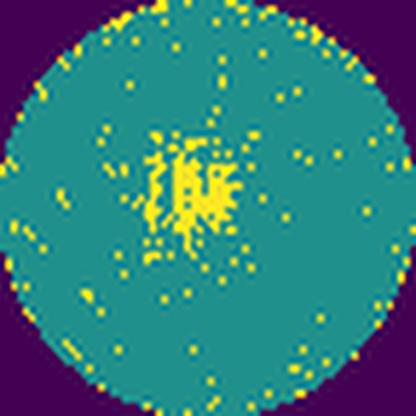Center: (138, 132, 245, 261)
